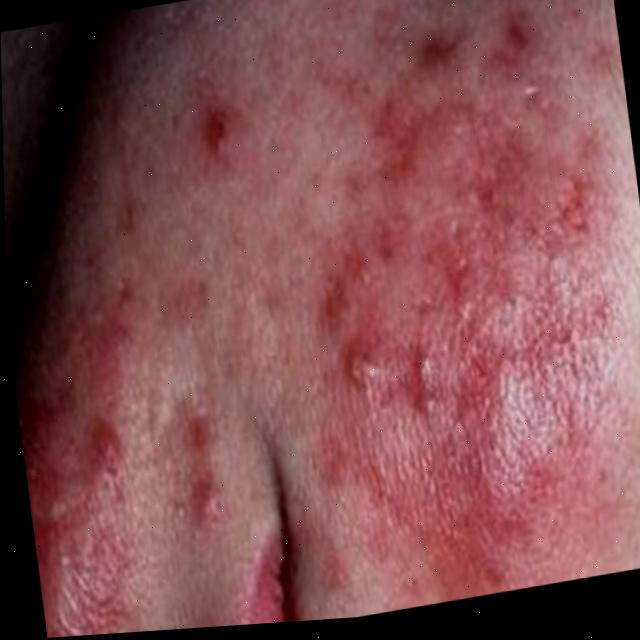Rosacea: (326, 103, 636, 585), (7, 302, 164, 640)
